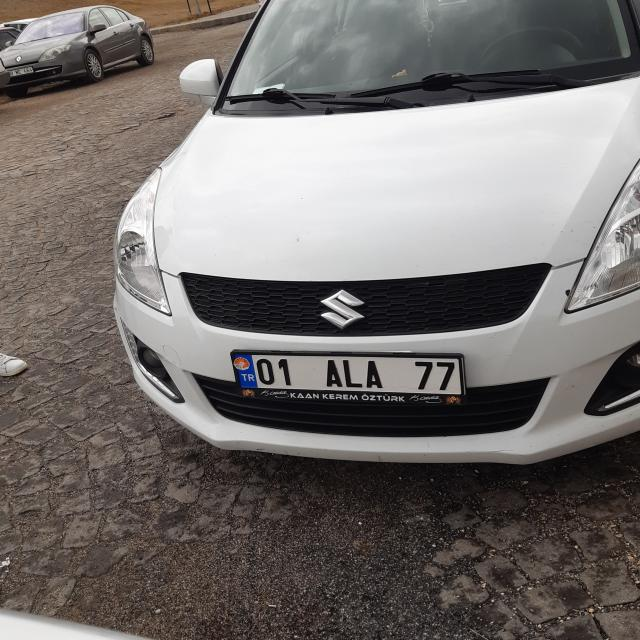license_plate: (232, 353, 462, 400)
